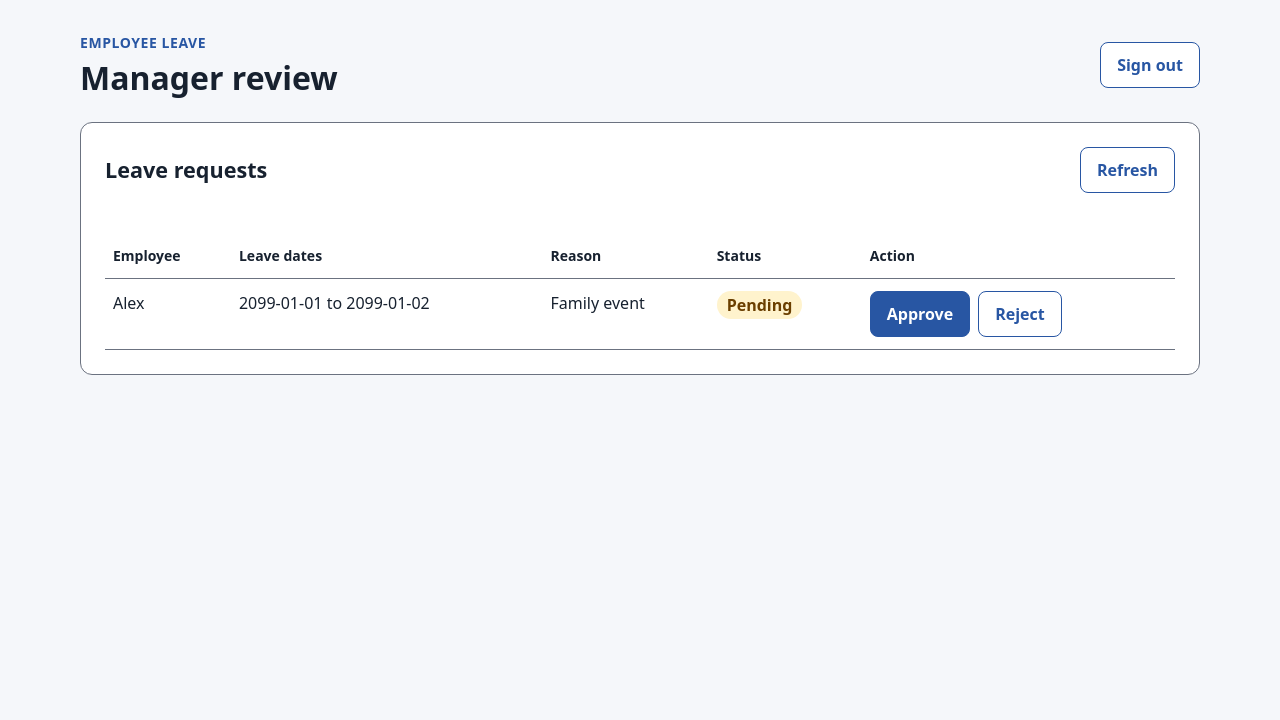
ManagerDashboard decisions › reports a stale decision without presenting it as saved
Step 1. Click the button "Approve" → (920, 314), box x1=870 y1=291 x2=970 y2=337
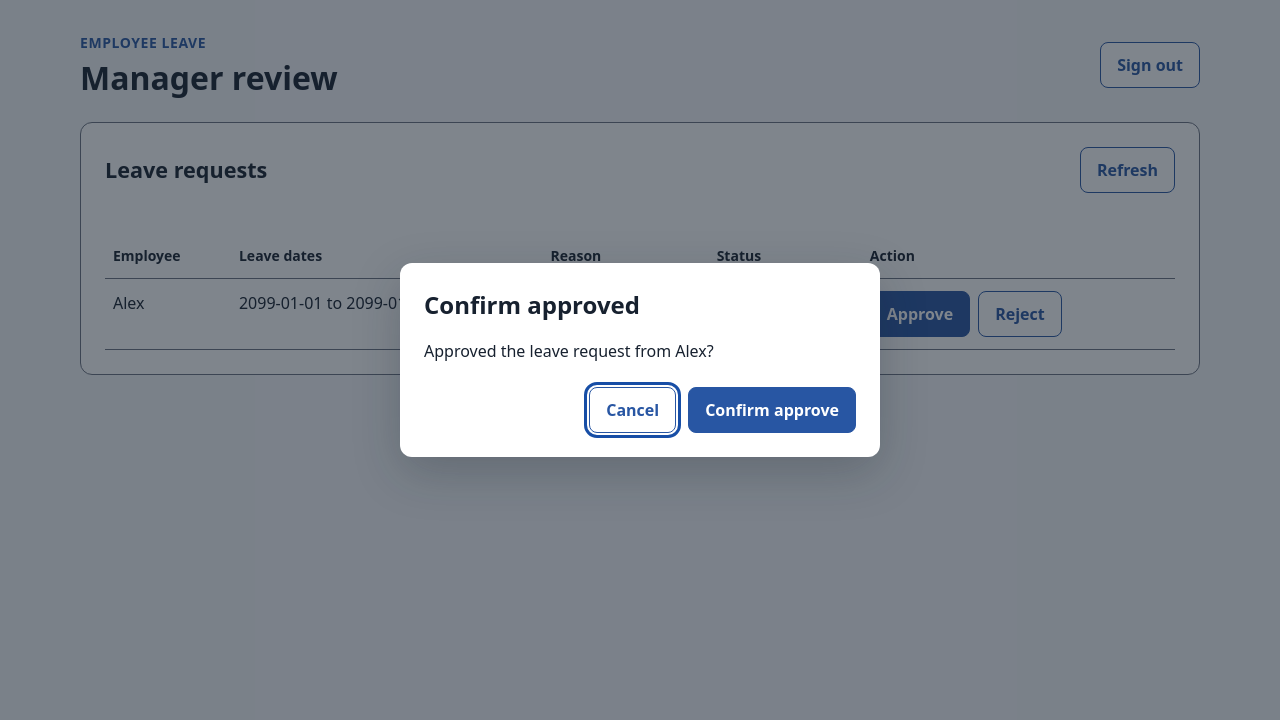
Step 2. Click the button "Confirm approve" → (772, 410), box x1=688 y1=387 x2=856 y2=433
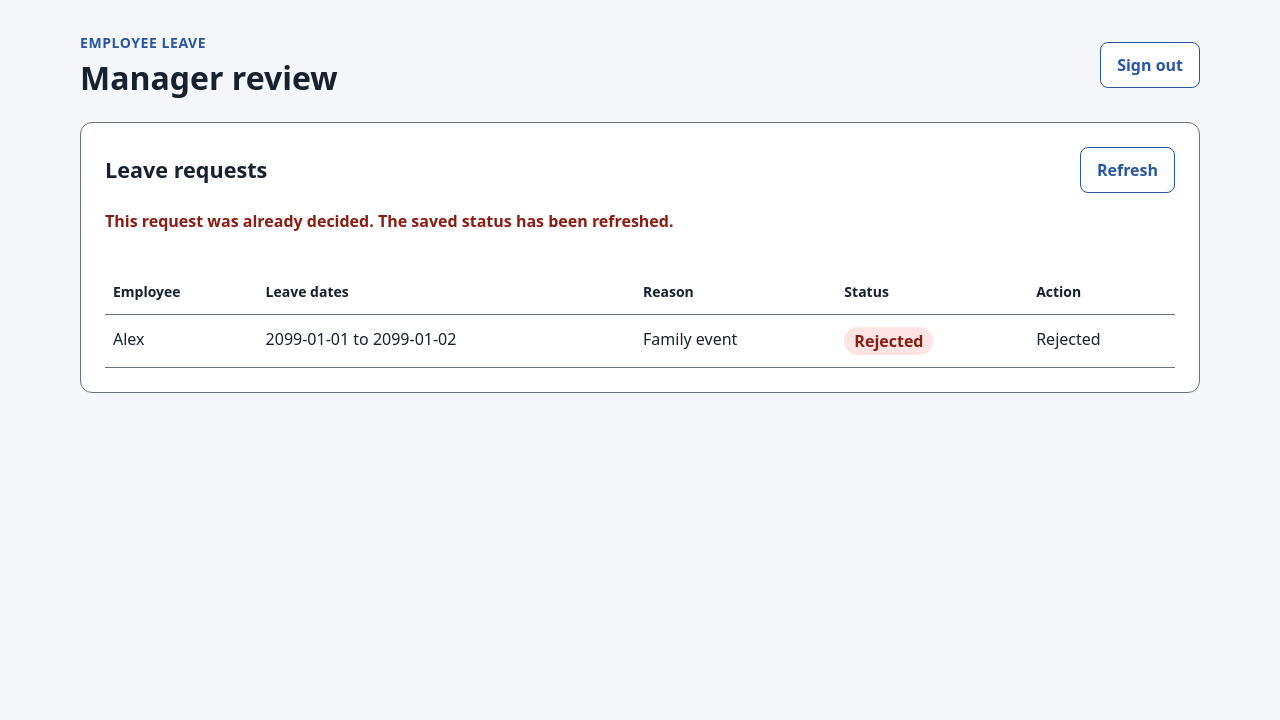
Expected: the text "Rejected" is shown 2 times, x1=844 y1=327 x2=934 y2=355; x1=1036 y1=328 x2=1101 y2=350
Expected: the message "This request was already decided. The saved status has been refreshed." is shown, x1=105 y1=210 x2=674 y2=232
